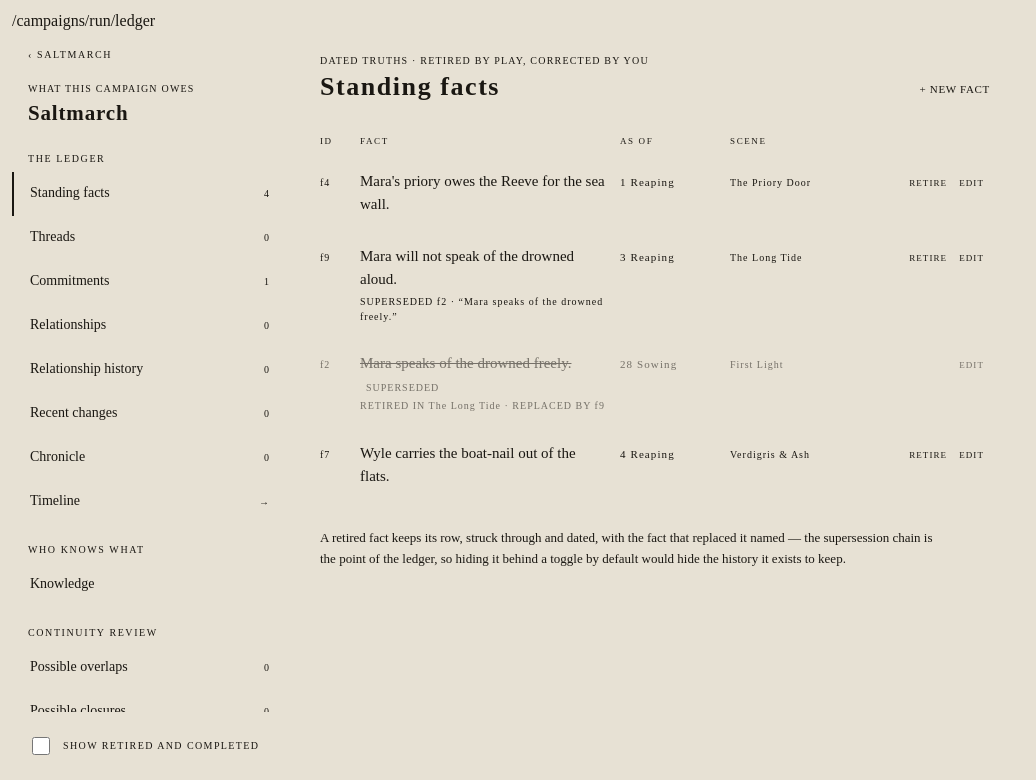
choosing a section swaps the table and its column labels
Expected: the table is shown, [320,135,1002,502]
Click the button "Commitments 1" at (70, 281), box [12,260,286,304]
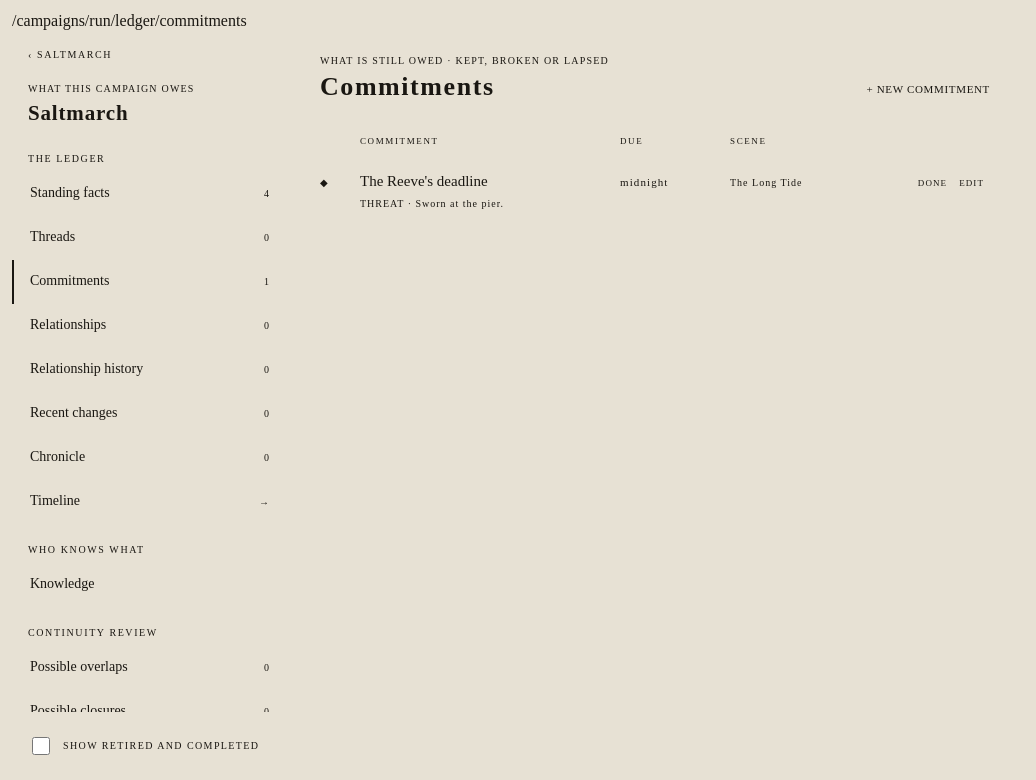
Now the heading "Commitments" is shown, box [320,72,495,100]
Now the row that starts with "The Reeve's deadline" shows "THREAT · Sworn at the pier.", box [360,198,504,209]
Now the cell "midnight" is shown, box [620,156,730,226]
